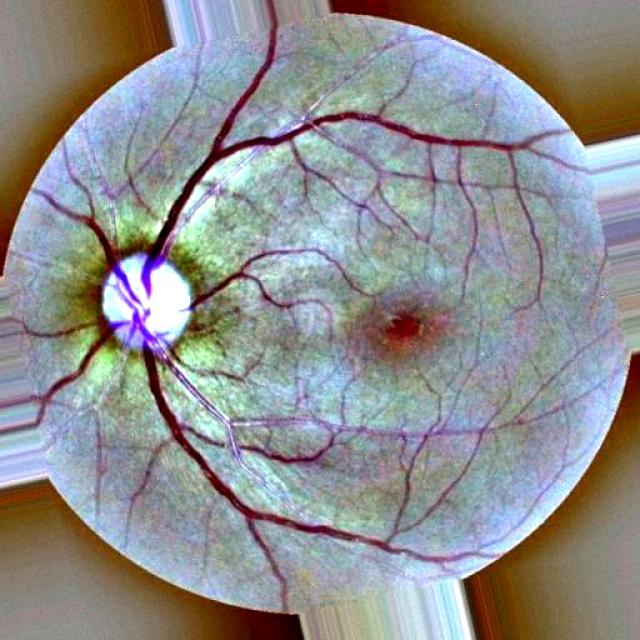Macula: (359, 273, 447, 376)
Nerves: (130, 23, 547, 607)
Optic Disk: (72, 226, 220, 383)
